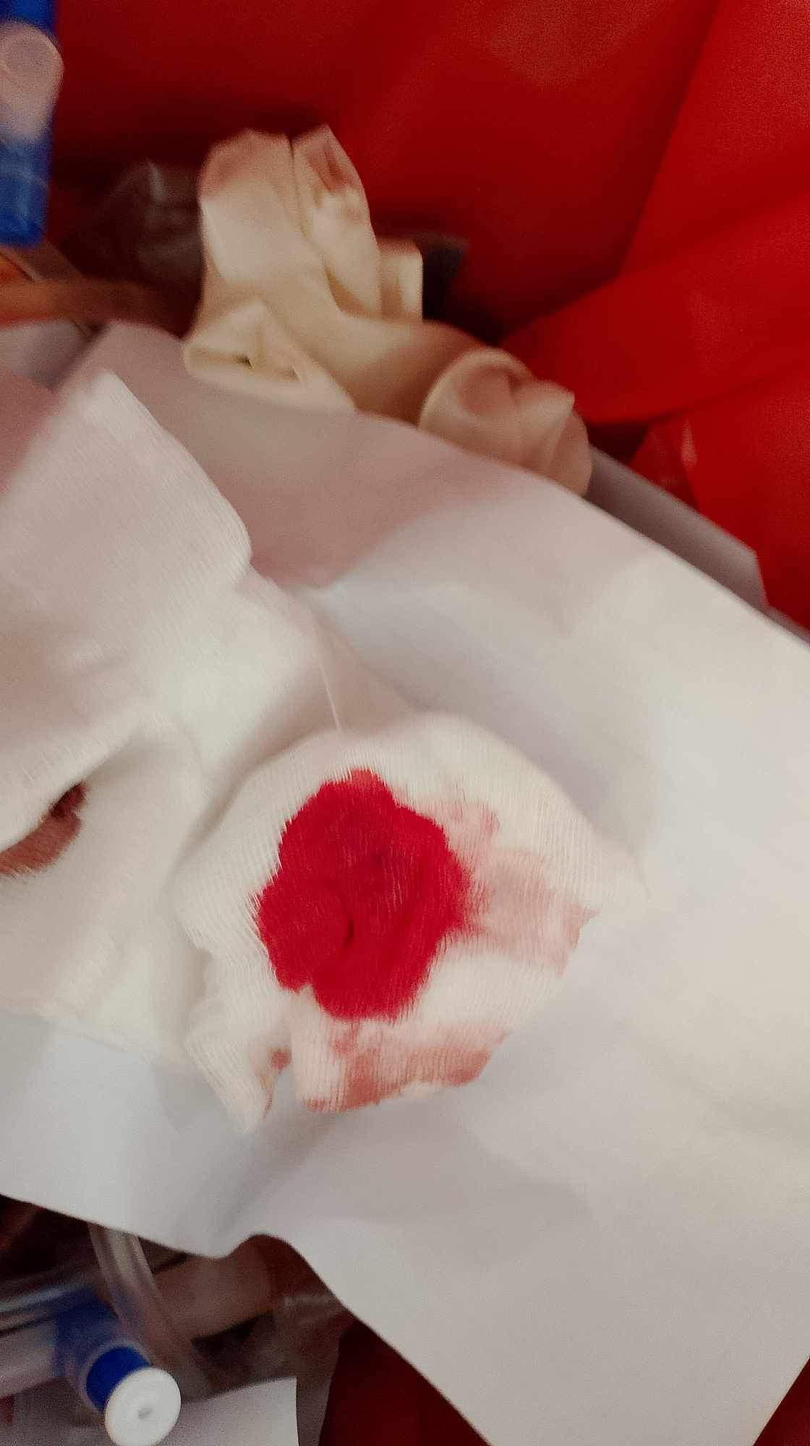General: (17, 3, 805, 636)
Infectious: (167, 706, 644, 1136), (179, 121, 594, 497)
Pathological: (4, 315, 805, 1439)
Sharps: (1, 1276, 183, 1443)
